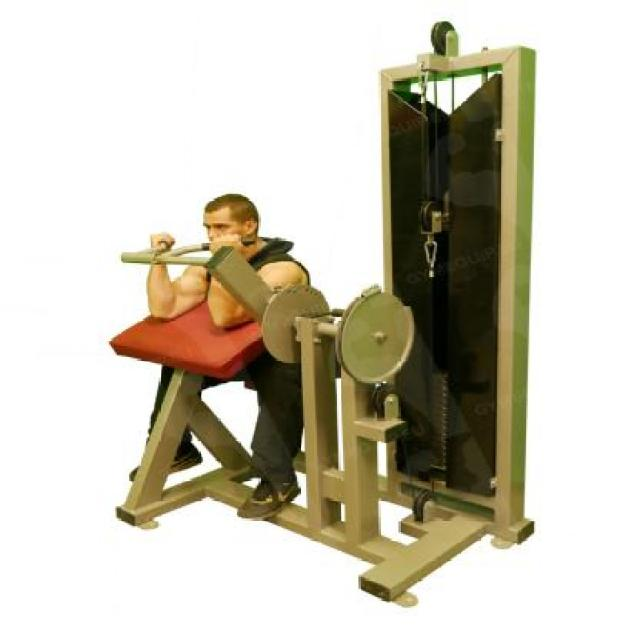arm curl machine: (106, 240, 534, 608)
